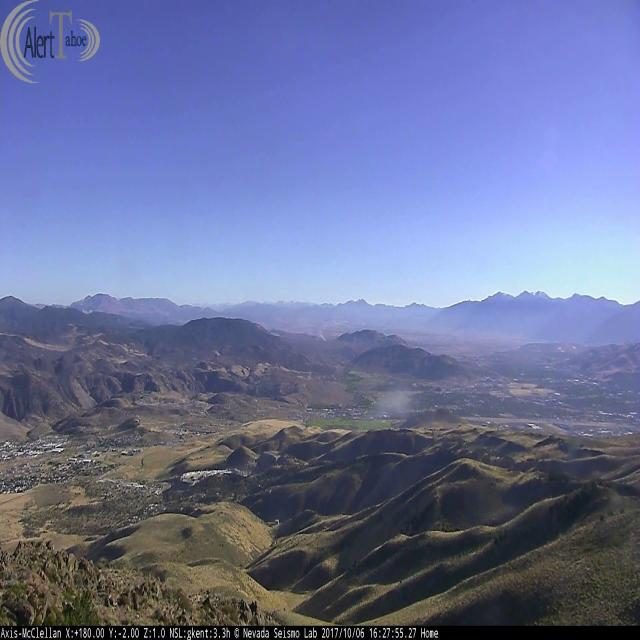smoke: (312, 323, 327, 343)
